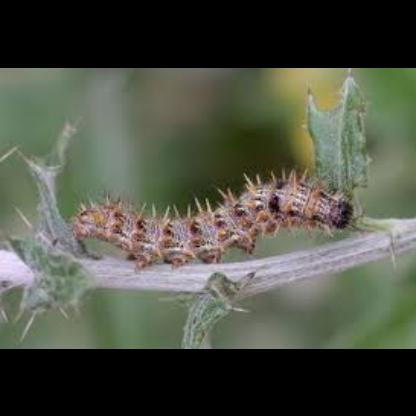oruga: (70, 175, 358, 261)
